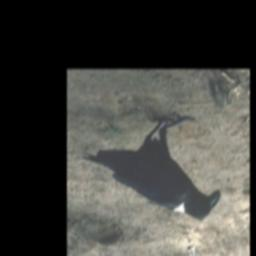Crow: (80, 113, 221, 223)
